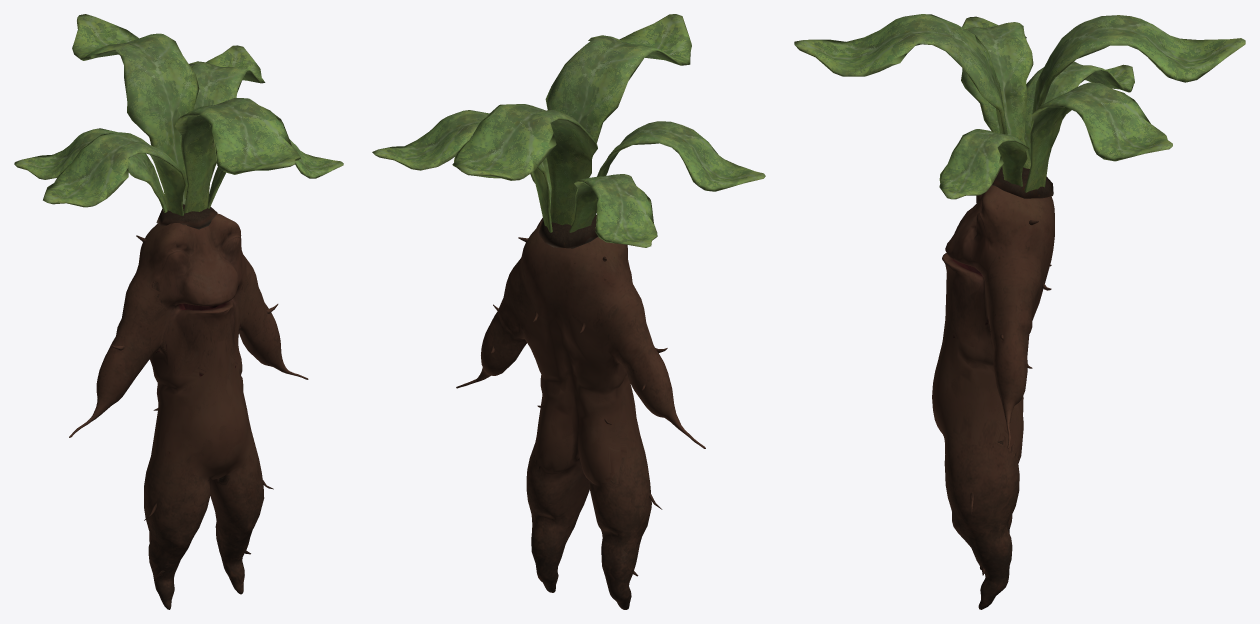
Rendered from Mandragore.fbx.
3 views of the same model, side by side, from view 1: azimuth 30°, elevation 25°; view 2: azimuth 150°, elevation 25°; view 3: azimuth 270°, elevation 25° (orthographic). The views are drawn at different scales.
Visible parts, largest first — view 1: Body_low, Leaf_low, Leaf_low2, Leaf_low5, Leaf_low3, Leaf_low1, Leaf_low4, dirt1; view 2: Body_low, Leaf_low, Leaf_low2, Leaf_low1, Leaf_low5, Leaf_low3, dirt1; view 3: Body_low, Leaf_low2, Leaf_low3, Leaf_low, Leaf_low5, Leaf_low4, Leaf_low1, dirt1.
Boxes of the visible parts, x1=… form: Body_low: x1=69, y1=213, x2=308, y2=609; Leaf_low: x1=72, y1=14, x2=199, y2=204; Leaf_low2: x1=174, y1=98, x2=300, y2=213; Leaf_low5: x1=43, y1=132, x2=185, y2=215; Leaf_low3: x1=189, y1=45, x2=265, y2=109; Leaf_low1: x1=14, y1=128, x2=167, y2=212; Leaf_low4: x1=208, y1=139, x2=343, y2=208; dirt1: x1=156, y1=204, x2=217, y2=229; Body_low: x1=456, y1=218, x2=705, y2=609; Leaf_low: x1=452, y1=104, x2=597, y2=225; Leaf_low2: x1=545, y1=14, x2=691, y2=159; Leaf_low1: x1=569, y1=174, x2=657, y2=247; Leaf_low5: x1=597, y1=121, x2=765, y2=191; Leaf_low3: x1=372, y1=110, x2=552, y2=232; dirt1: x1=538, y1=214, x2=597, y2=248; Body_low: x1=932, y1=185, x2=1054, y2=609; Leaf_low2: x1=794, y1=14, x2=1007, y2=174; Leaf_low3: x1=1024, y1=82, x2=1172, y2=192; Leaf_low: x1=1031, y1=15, x2=1245, y2=164; Leaf_low5: x1=961, y1=16, x2=1033, y2=168; Leaf_low4: x1=939, y1=129, x2=1029, y2=199; Leaf_low1: x1=1025, y1=61, x2=1134, y2=160; dirt1: x1=991, y1=166, x2=1053, y2=198.
Size of the model in its own units: 25.14 by 42.74 by 31.01.
